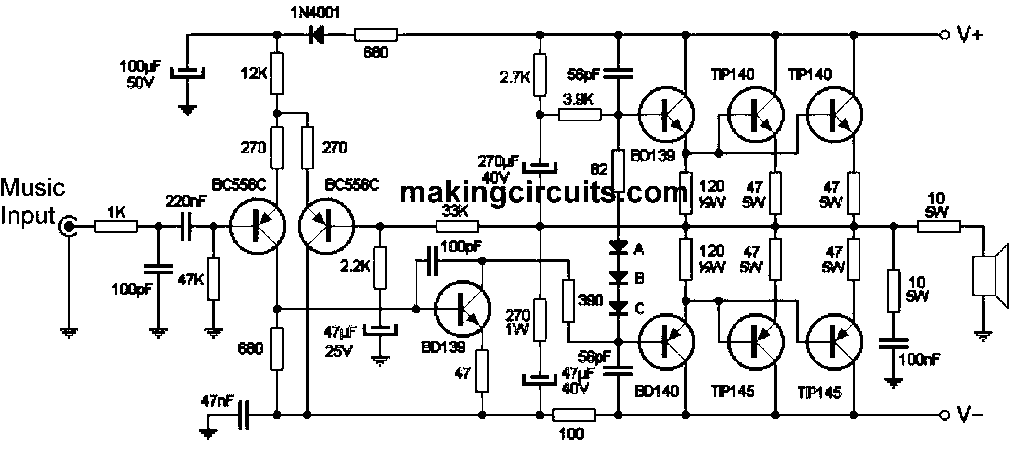C: (167, 57, 214, 91), (598, 62, 642, 90), (356, 319, 403, 343), (232, 392, 257, 436), (138, 256, 184, 278), (176, 205, 200, 246), (426, 238, 446, 280)
D: (602, 297, 634, 326), (607, 263, 634, 293), (602, 233, 636, 256)
Q: (721, 81, 798, 148), (296, 188, 364, 261), (224, 191, 290, 261), (721, 313, 795, 373), (634, 82, 701, 146), (637, 310, 703, 374)
R: (256, 318, 299, 381), (556, 100, 614, 137), (264, 44, 301, 100), (292, 118, 326, 176), (346, 19, 403, 53), (84, 211, 149, 240), (196, 250, 230, 304), (261, 119, 293, 176), (470, 340, 500, 399), (551, 396, 603, 430), (524, 287, 550, 348), (529, 45, 555, 103), (554, 273, 580, 328), (369, 242, 396, 291), (608, 140, 630, 192)
